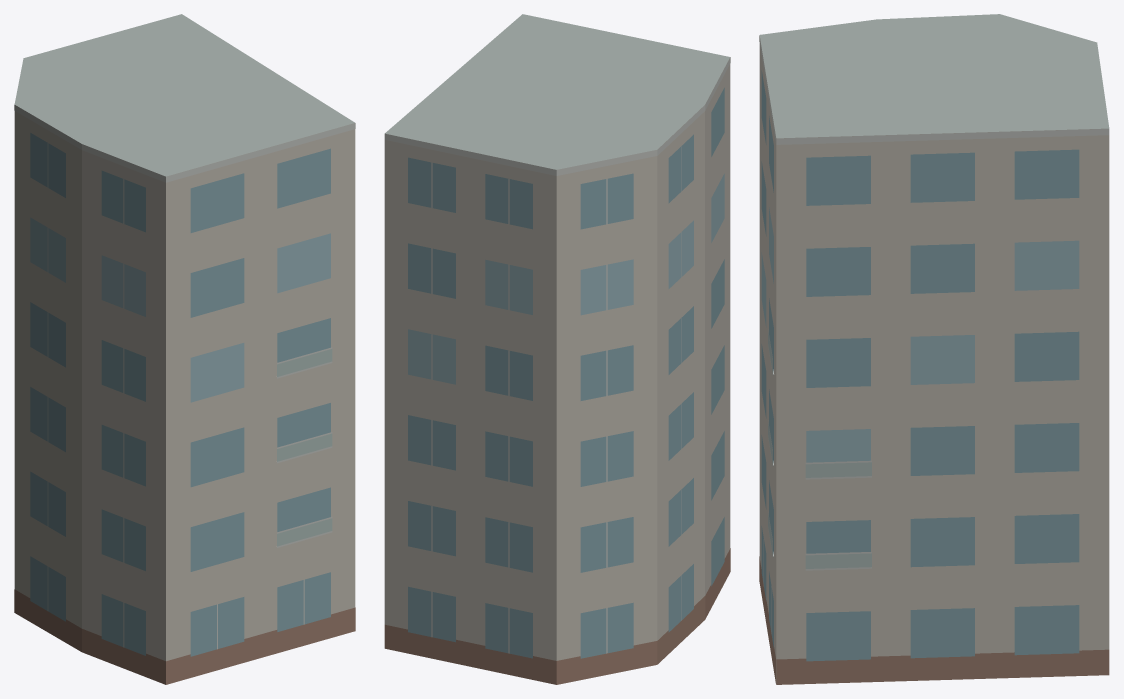
File: survey-upis-32977361.glb
3 renders of one model, left to right at view 1: azimuth 30°, elevation 25°; view 2: azimuth 150°, elevation 25°; view 3: azimuth 270°, elevation 25°, orthographic. The views are drawn at different scales.
Visible parts, largest first — view 1: survey-upis-32977361.tmp; view 2: survey-upis-32977361.tmp; view 3: survey-upis-32977361.tmp.
Part boxes in pixels (bbox=[...]): survey-upis-32977361.tmp: bbox=[14, 14, 355, 684]; survey-upis-32977361.tmp: bbox=[384, 14, 730, 684]; survey-upis-32977361.tmp: bbox=[759, 14, 1109, 684].
Size of the model in its own units: 9.87 by 20.2 by 11.73.
